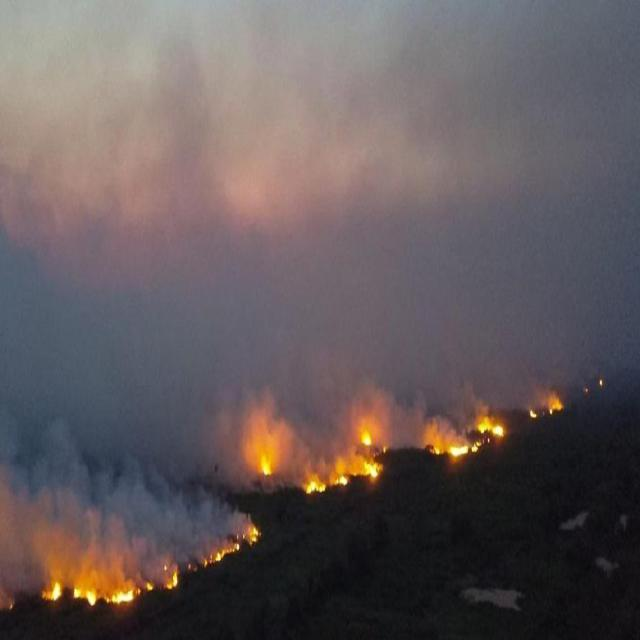Fire: (74, 582, 97, 606), (211, 544, 236, 564), (478, 419, 504, 438), (110, 588, 134, 605), (44, 580, 60, 603), (448, 442, 468, 458), (305, 479, 325, 494), (164, 571, 178, 590), (548, 399, 564, 415), (365, 461, 378, 478), (361, 427, 371, 447), (262, 456, 272, 474), (333, 474, 348, 486), (250, 523, 258, 545), (528, 408, 537, 422)
